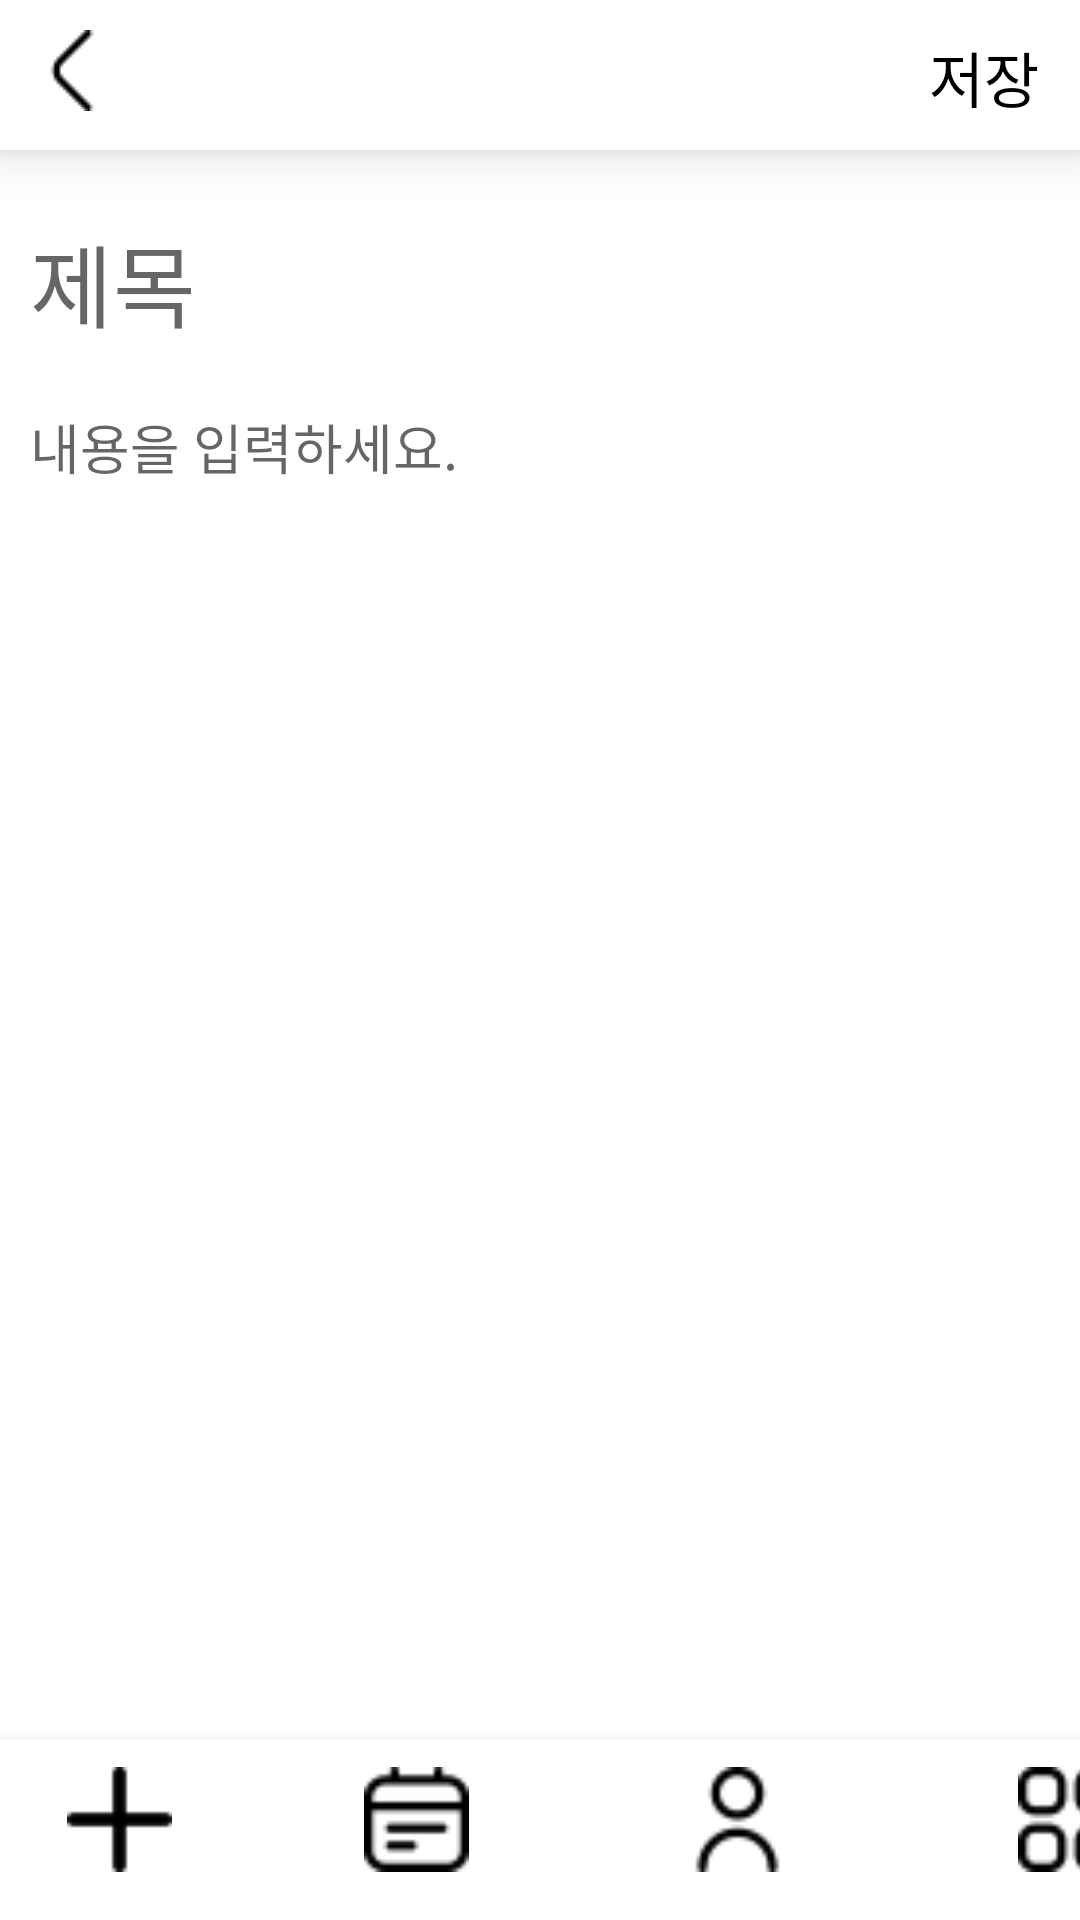

Point at icon controls on the screen. Image size 1080px×1920px, points as (x=x, y=y).
add noncircle: (x=119, y=1819)
back: (x=72, y=70)
calendar: (x=416, y=1819)
mypage: (x=737, y=1819)
